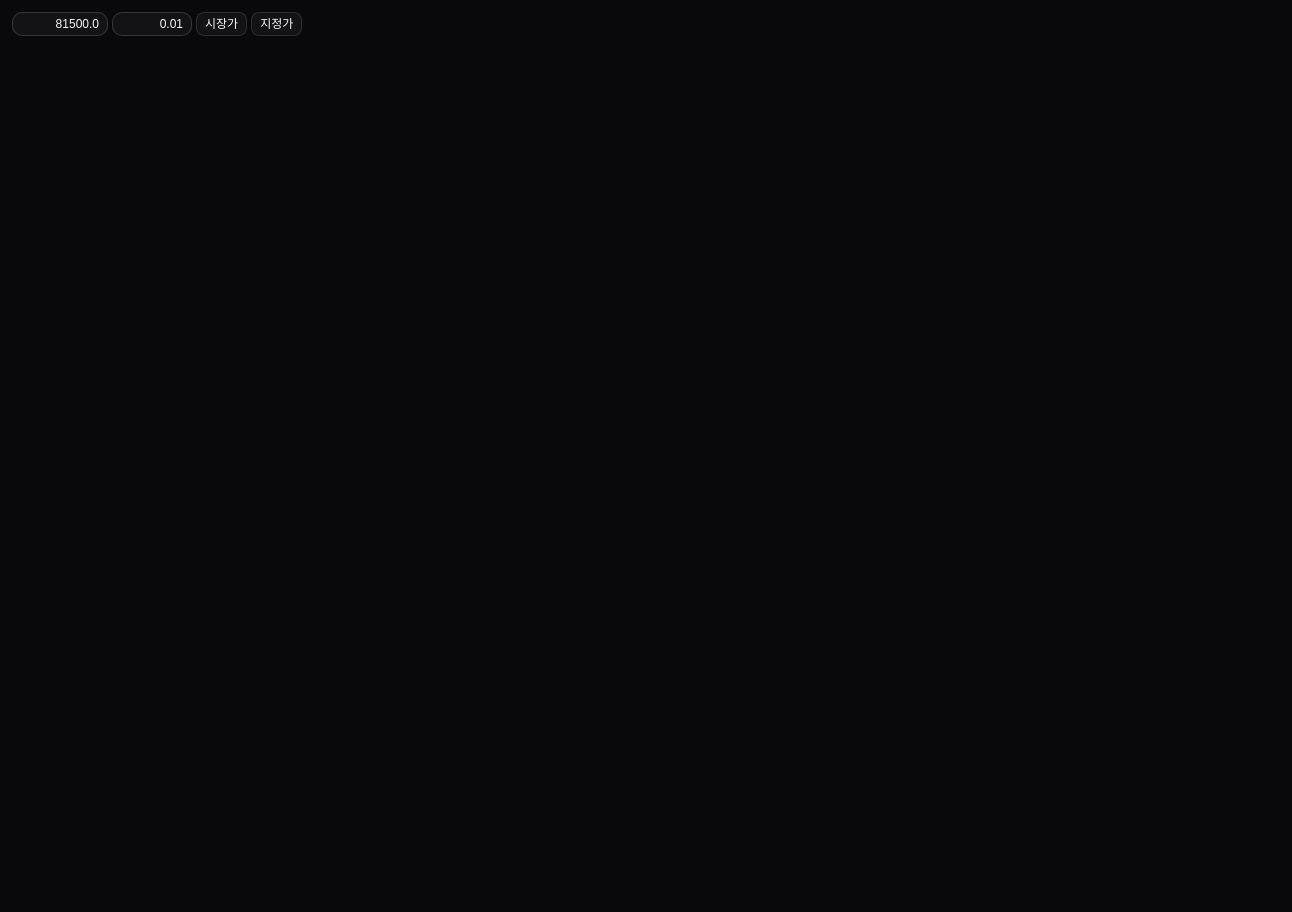
ClosePositionControls › 서버가 거부하면 그 이유를 알린다
The width and height of the screenshot is (1292, 912).
Click the button with aria-label "시장가로 닫기": click(222, 24) [196, 12, 247, 36]
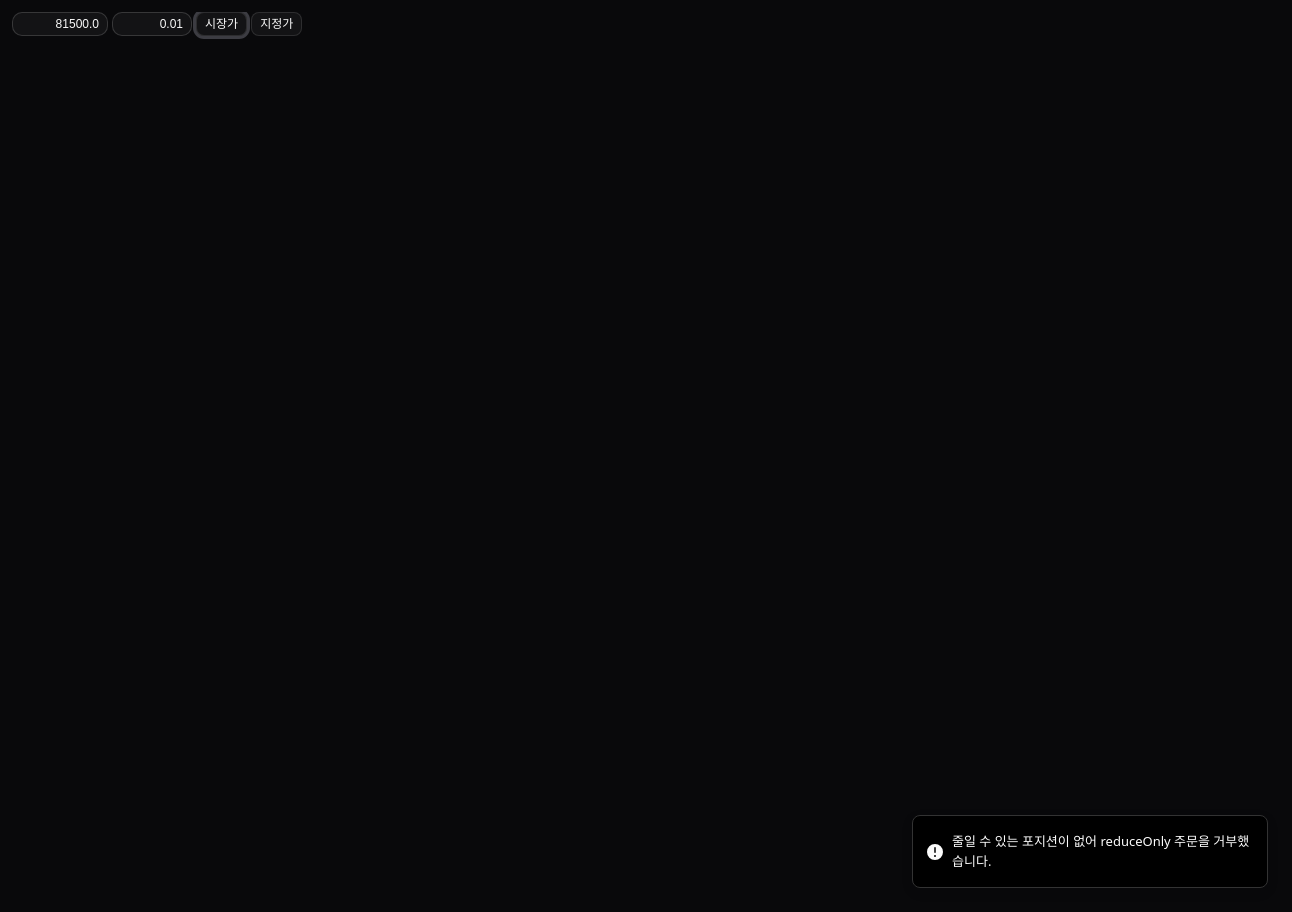
Result: the text "줄일 수 있는 포지션이 없어 reduceOnly 주문을 거부했습니다." is shown at [952, 832, 1251, 871]
